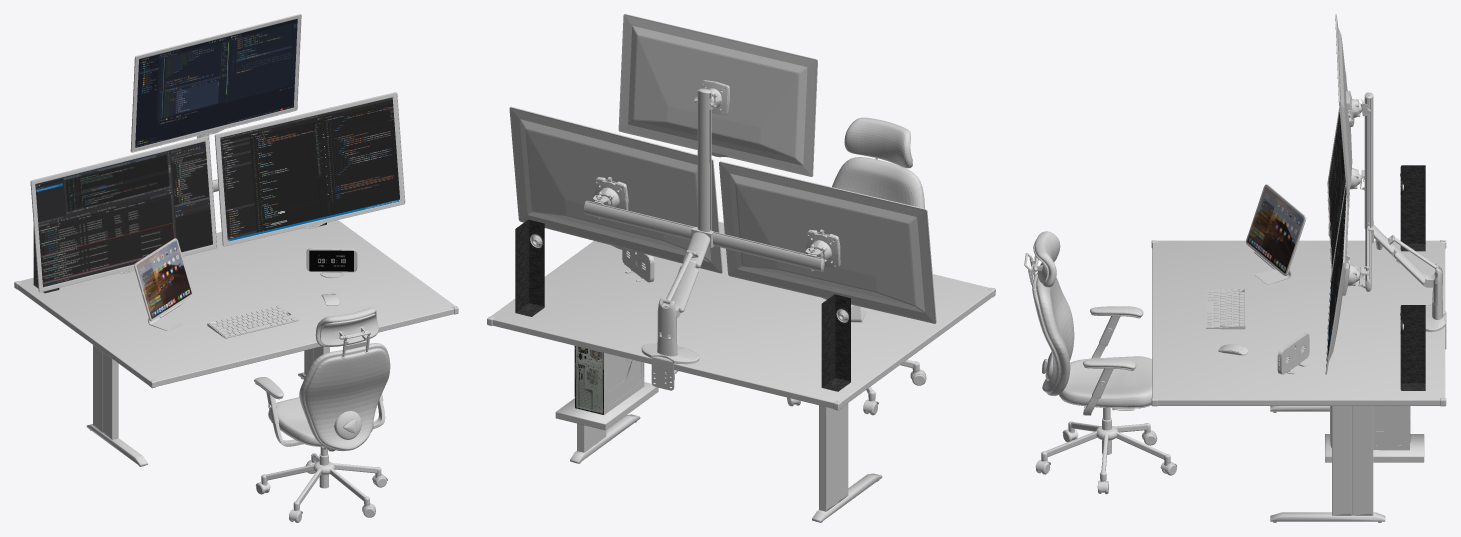
The model's file is office_setup.glb.
The picture shows the model from 3 angles, left to right: view 1: azimuth 30°, elevation 25°; view 2: azimuth 150°, elevation 25°; view 3: azimuth 270°, elevation 25°; orthographic projection. The views are drawn at different scales.
Visible parts, largest first — view 1: wood adler, Mat.4_3, Mat.9, Mat.4_2, Mat.6_2, Mat.10; view 2: wood adler, Plastic, Mat.7; view 3: wood adler, Plastic, Mat.6_2, Mat.9, Mat.4_3.
Part boxes in pixels (box(x1,y1,x2,y2)): wood adler: box(14, 14, 458, 522); Mat.4_3: box(220, 97, 400, 241); Mat.9: box(35, 141, 212, 287); Mat.4_2: box(135, 19, 297, 147); Mat.6_2: box(136, 240, 191, 318); Mat.10: box(309, 250, 353, 271); wood adler: box(487, 14, 995, 522); Plastic: box(515, 219, 850, 391); Mat.7: box(574, 346, 603, 414); wood adler: box(1024, 14, 1446, 522); Plastic: box(1400, 165, 1425, 390); Mat.6_2: box(1247, 187, 1303, 273); Mat.9: box(1328, 112, 1345, 267); Mat.4_3: box(1327, 187, 1346, 362).
Bounding box in the file's own units: 191 × 192 × 179.
Materials: 12 (11 with a texture image).
